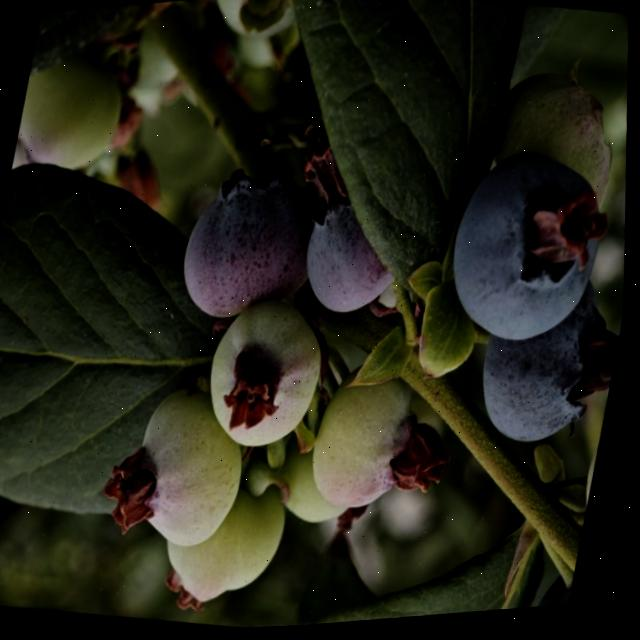RipeBlueBerry: (431, 139, 628, 366)
UnripeBlueBerry: (111, 380, 262, 561), (188, 287, 339, 462)
